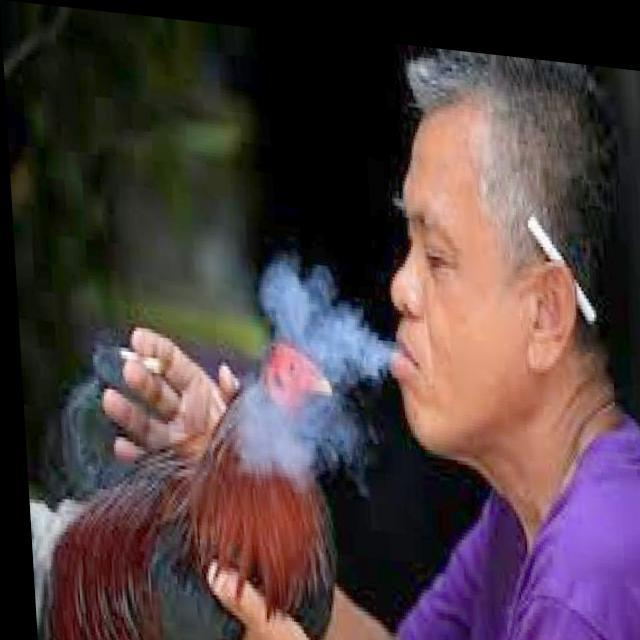Smoke: (187, 234, 423, 490)
